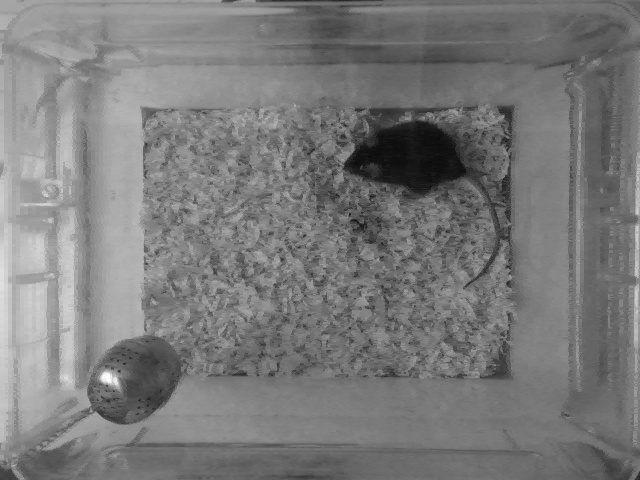mice: (338, 117, 504, 284)
